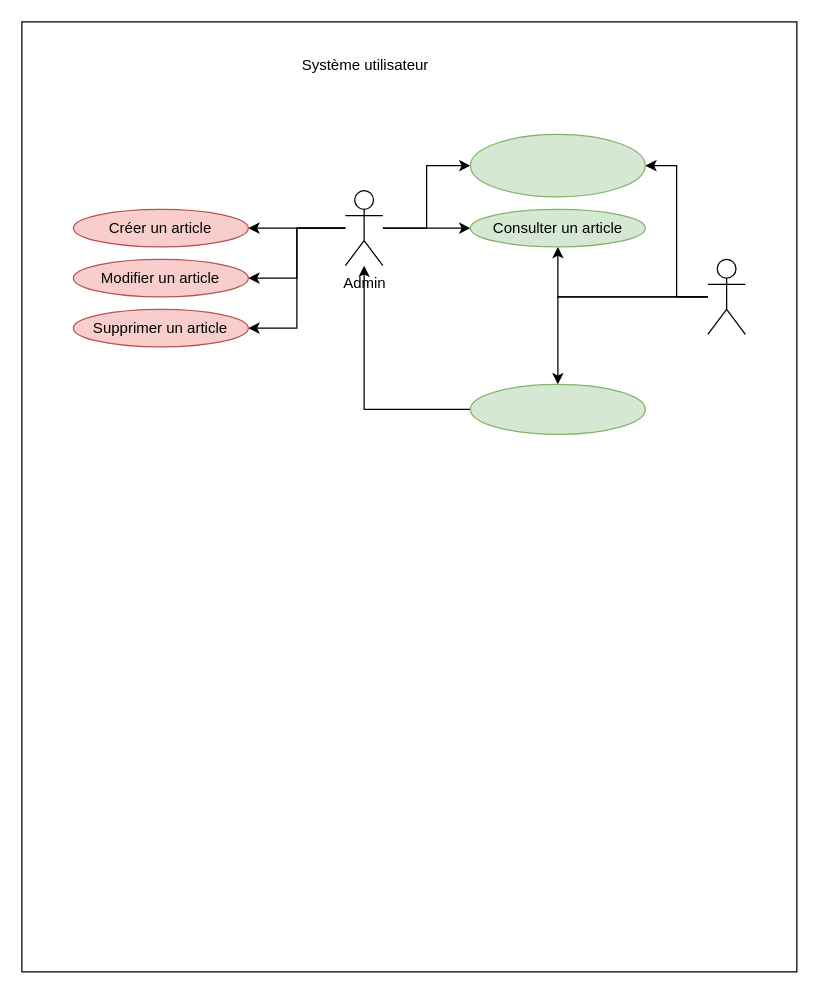
Some shapes in this 819 by 994 pixel diagram are drawn without their labels. The box of each missing label's shape, as (x1, y1, x2, y2) in pixels:
Consulter la liste des article: (469, 133, 645, 197)
s'authentifier: (469, 383, 645, 434)
Visiteur: (707, 258, 745, 334)
